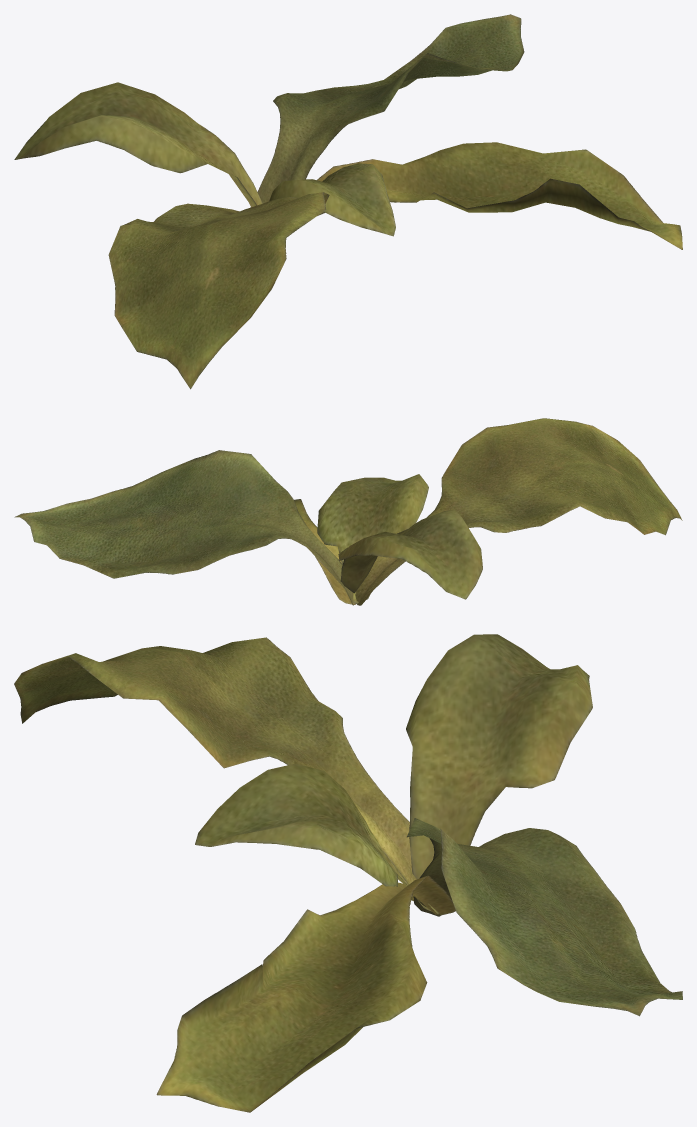
The model's file is crystalline_iceplant_06.glb.
3 renders of one model, top to bottom at view 1: azimuth 30°, elevation 25°; view 2: azimuth 150°, elevation 25°; view 3: azimuth 270°, elevation 25°, orthographic. The views are drawn at different scales.
Visible parts, largest first — view 1: crystalline_iceplant; view 2: crystalline_iceplant; view 3: crystalline_iceplant.
Boxes of the visible parts, x1,y1,x2,y2 form: crystalline_iceplant: [14, 14, 682, 389]; crystalline_iceplant: [14, 418, 682, 605]; crystalline_iceplant: [14, 634, 682, 1112].
Bounding box in the file's own units: 0.1117 × 0.0279 × 0.0876.
Materials: 1 (1 with a texture image).
